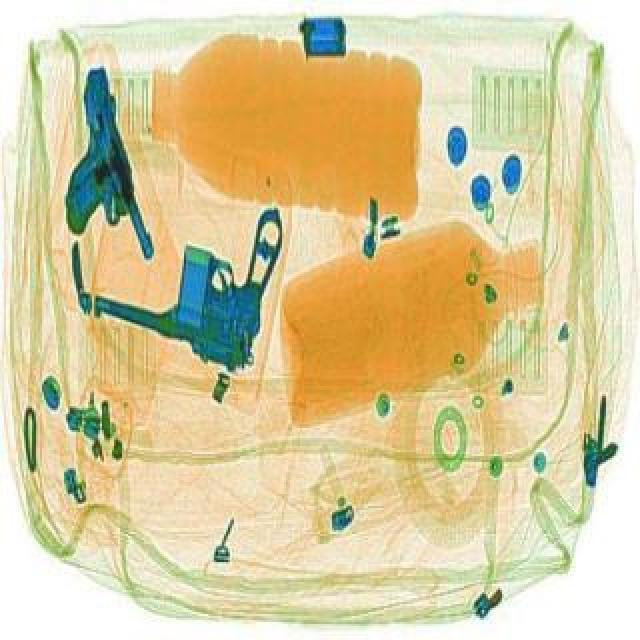gun: (84, 168, 296, 372), (26, 64, 162, 272)
